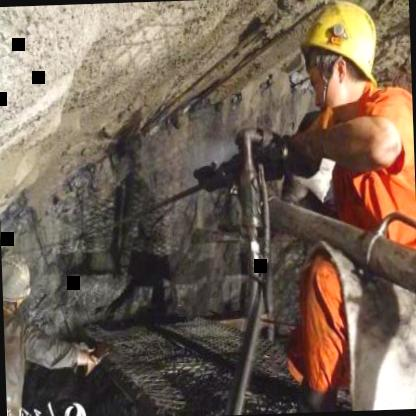helmet: (293, 0, 391, 122), (1, 247, 42, 315)
